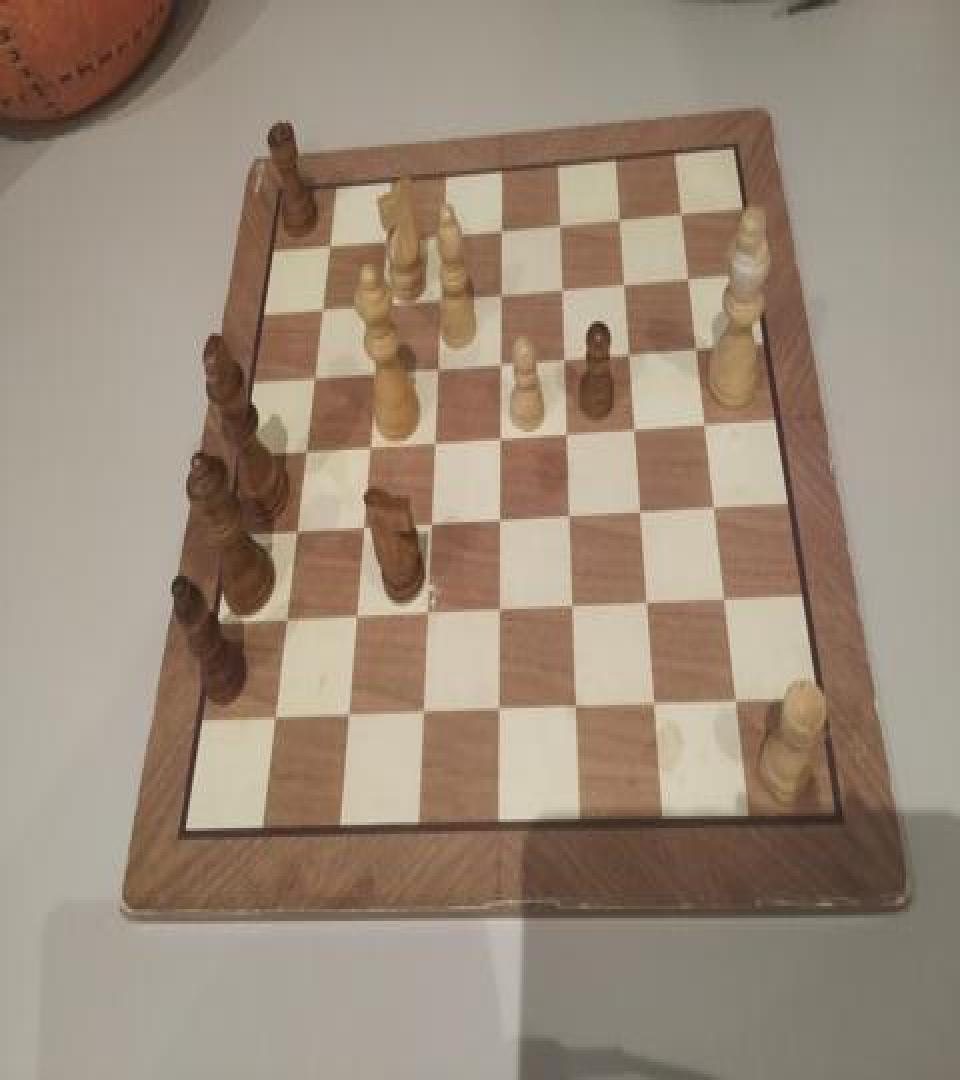xcorner: (633, 499, 653, 530), (338, 702, 358, 732), (413, 699, 433, 729), (567, 696, 587, 726), (646, 693, 666, 723), (727, 692, 747, 722), (275, 606, 295, 636), (345, 603, 365, 633), (417, 600, 437, 630), (490, 597, 510, 627), (564, 594, 584, 624), (639, 592, 659, 622), (716, 590, 736, 620), (285, 516, 305, 546), (352, 513, 372, 543), (421, 510, 441, 540), (490, 507, 510, 537), (561, 502, 581, 532), (706, 496, 726, 526), (294, 435, 314, 465), (359, 430, 379, 460), (424, 428, 444, 458), (491, 423, 511, 453), (559, 420, 579, 450), (627, 416, 647, 446), (697, 411, 717, 441), (303, 360, 323, 390), (365, 356, 385, 386), (428, 351, 448, 381), (491, 346, 511, 376), (556, 342, 576, 372), (622, 339, 642, 369), (689, 334, 709, 364), (311, 291, 331, 321), (370, 286, 390, 316), (431, 282, 451, 312), (492, 278, 512, 308), (554, 273, 574, 303), (617, 267, 637, 297), (681, 262, 701, 292), (318, 226, 338, 256), (375, 222, 395, 252), (433, 218, 453, 248), (492, 213, 512, 243), (552, 207, 572, 237), (613, 202, 633, 232), (674, 198, 694, 228), (264, 704, 284, 733), (489, 698, 509, 727)
